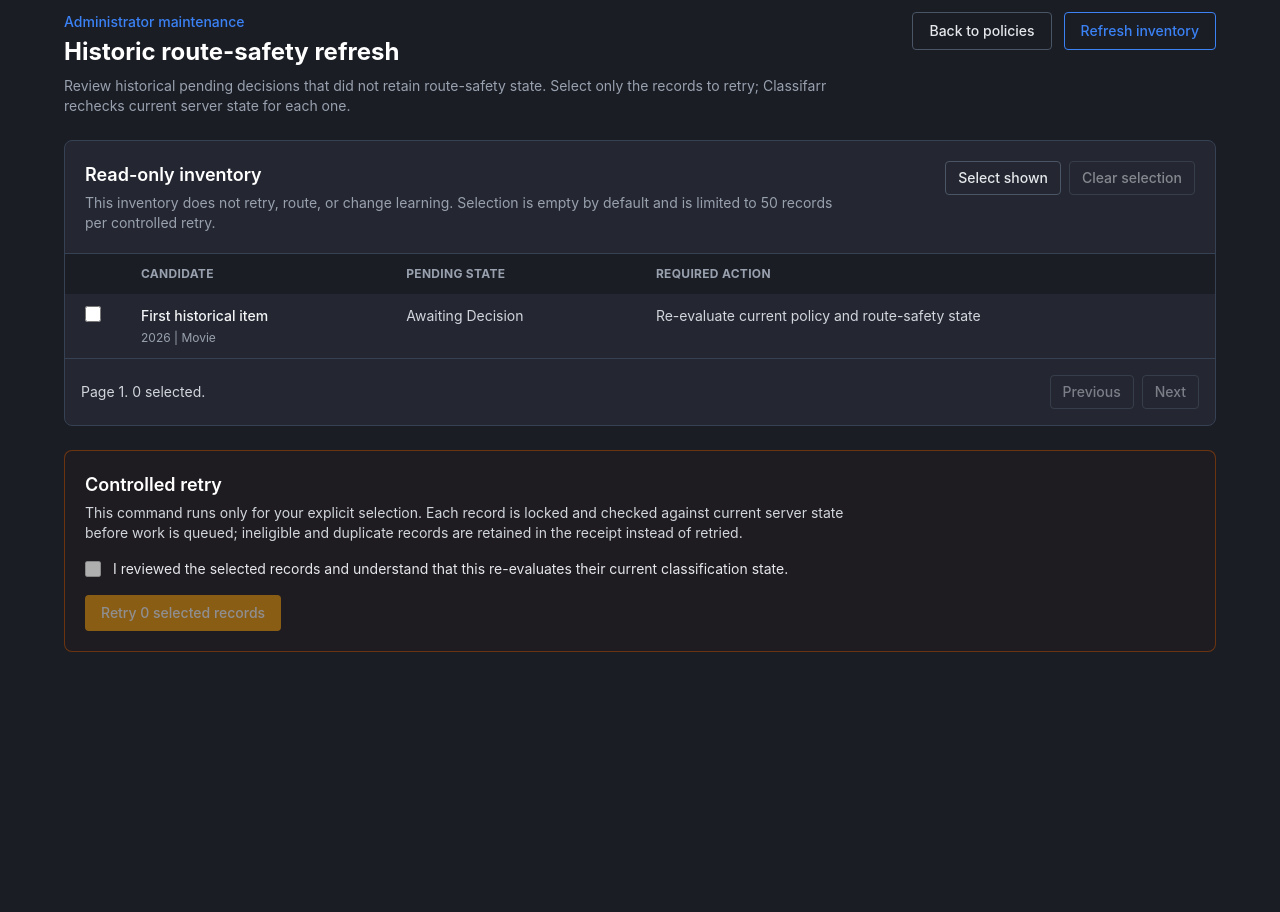
Scenario: PolicyHistoricRouteSafetyRefresh.vue › shows a bounded administrator error rather than a server-provided detail
Click the checkbox with id "historic-route-safety-select-41".
click(93, 314)  # box [85, 306, 101, 322]
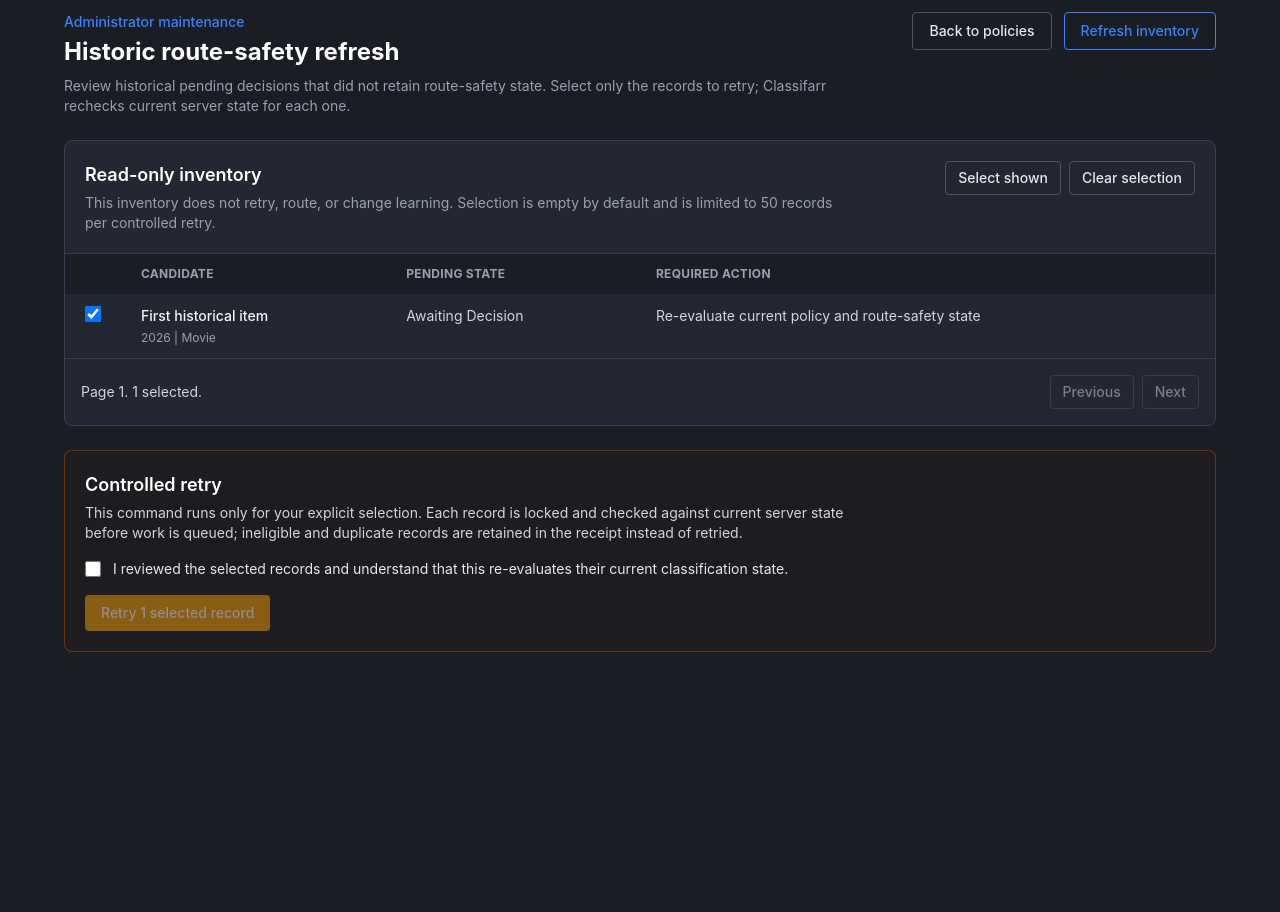
Click the checkbox with id "historic-route-safety-execution-acknowledgement".
click(93, 569)  # box [85, 561, 101, 577]
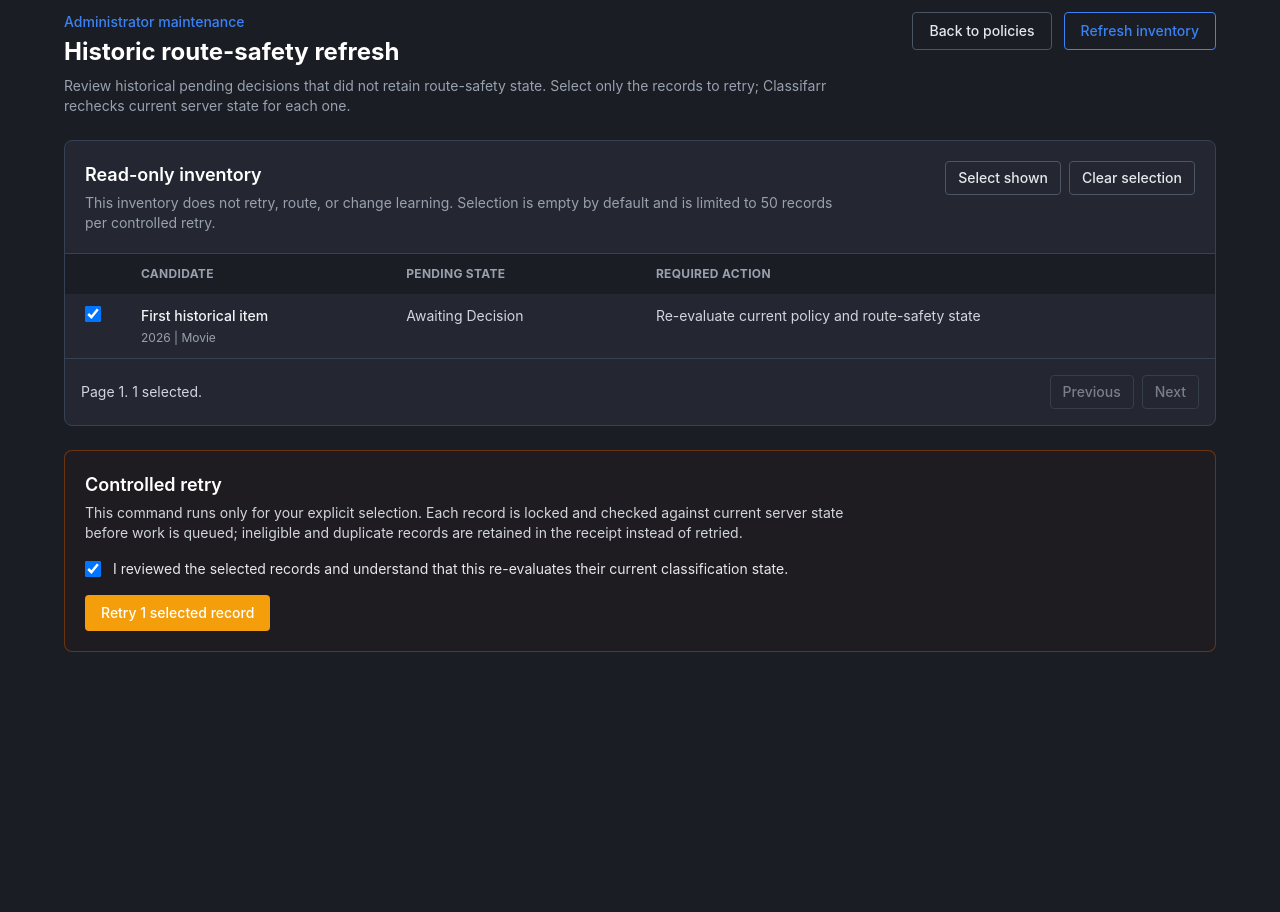
Click the button "Retry 1 selected record".
click(178, 613)  # box [85, 595, 270, 631]
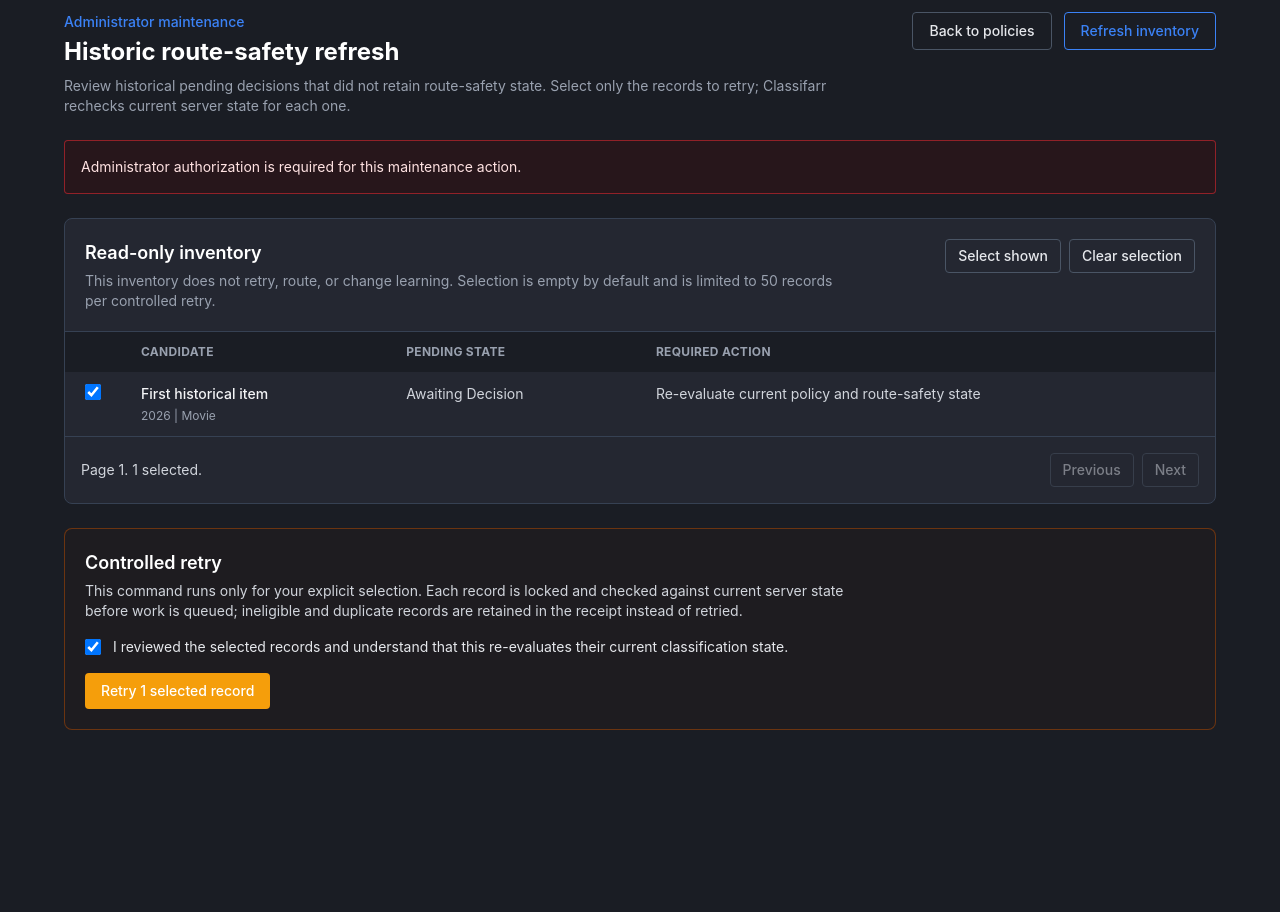
Expected: the text "Administrator authorization is required for this maintenance action." is shown, [64, 140, 1216, 194]
